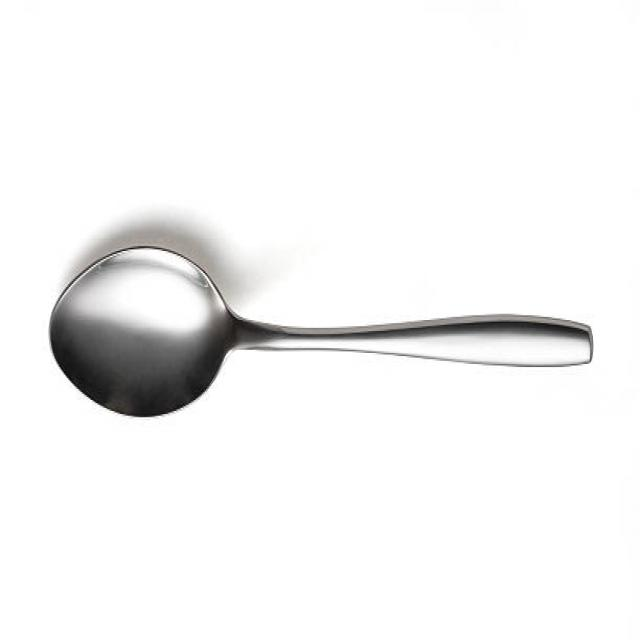spoon: (40, 234, 605, 424)
